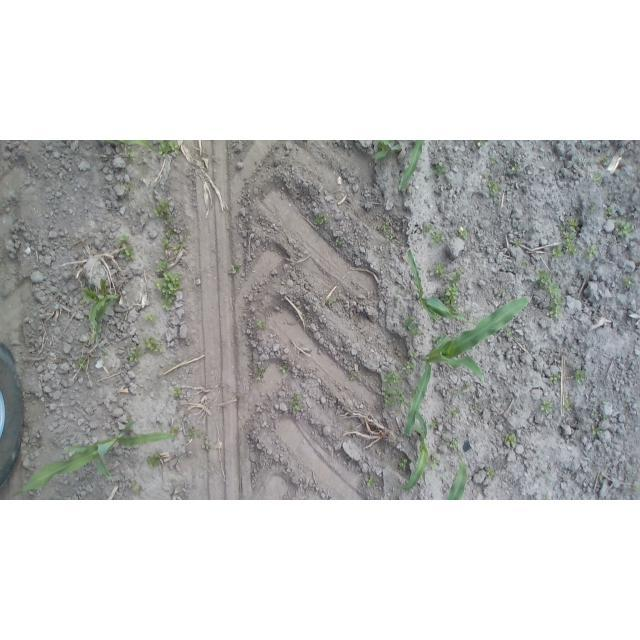Maize: (403, 296, 530, 439), (8, 420, 181, 501), (407, 250, 480, 330), (399, 401, 430, 492), (80, 278, 120, 348), (399, 141, 424, 191), (447, 462, 468, 500), (105, 141, 158, 156)
Weeds: (433, 264, 473, 324), (551, 217, 600, 263), (154, 202, 190, 255), (155, 261, 184, 311), (536, 272, 565, 321), (380, 372, 405, 411), (375, 141, 402, 163), (118, 235, 135, 262), (157, 140, 180, 156), (146, 336, 166, 354), (402, 317, 420, 337), (614, 219, 632, 239), (404, 352, 420, 373), (383, 218, 396, 243), (127, 345, 145, 363), (286, 395, 302, 412), (453, 384, 470, 398), (428, 455, 441, 473), (147, 453, 161, 469), (316, 214, 333, 227), (488, 180, 501, 197), (504, 434, 517, 450), (539, 401, 553, 415), (432, 165, 446, 179), (130, 481, 143, 496), (250, 364, 262, 379), (144, 314, 157, 327), (397, 458, 410, 471), (592, 408, 605, 420), (484, 468, 497, 480), (433, 230, 444, 244), (79, 358, 88, 374), (576, 371, 587, 384), (421, 225, 431, 239), (231, 261, 240, 276), (172, 387, 183, 399), (457, 229, 469, 240), (520, 258, 531, 269), (591, 427, 602, 438), (490, 154, 499, 167), (447, 410, 460, 419), (516, 238, 526, 249), (470, 404, 481, 413), (449, 440, 458, 451), (351, 425, 358, 439), (364, 476, 372, 488), (625, 278, 633, 290), (565, 398, 572, 411), (594, 172, 603, 182), (327, 297, 334, 308), (550, 375, 560, 382), (123, 184, 129, 195), (256, 321, 265, 328), (512, 165, 521, 172), (349, 375, 358, 382), (428, 423, 437, 430), (203, 443, 209, 453), (477, 141, 484, 149), (607, 207, 614, 215), (632, 486, 640, 493), (188, 432, 194, 441), (600, 155, 609, 161), (279, 365, 285, 373), (506, 329, 512, 337), (335, 238, 341, 245), (499, 291, 505, 296)
